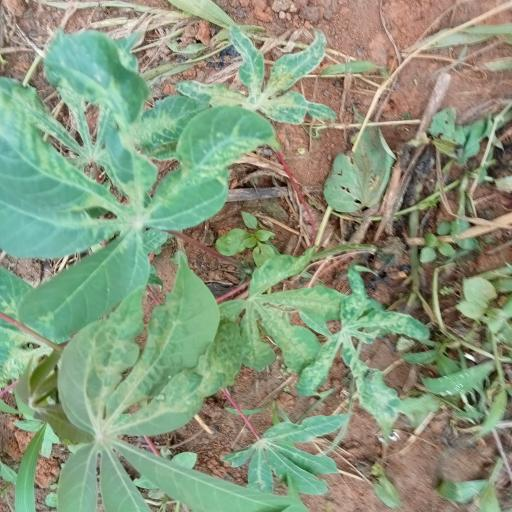Cassava_Mosaic: (0, 21, 275, 293), (61, 325, 304, 512)
